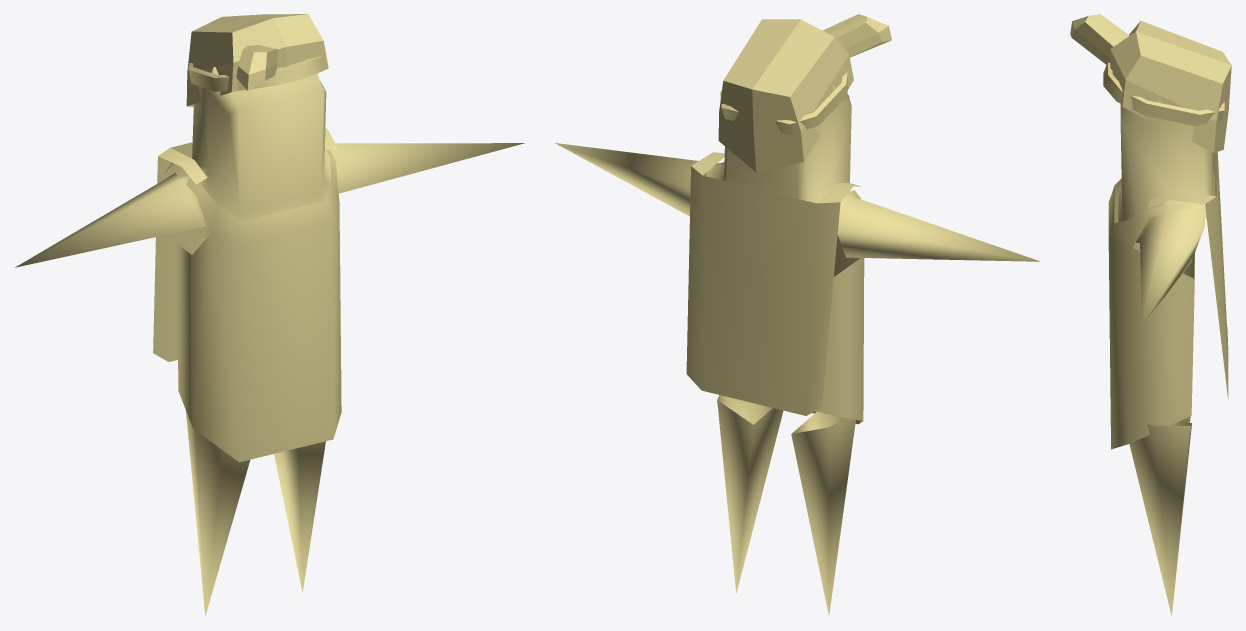
Rendered from Warrior.FBX.
3 views of the same model, side by side, from view 1: azimuth 30°, elevation 25°; view 2: azimuth 150°, elevation 25°; view 3: azimuth 270°, elevation 25° (orthographic). The views are drawn at different scales.
Parts seen in each view (by area): view 1: Warrior; view 2: Warrior; view 3: Warrior.
Part boxes in pixels (box(x1,y1,x2,y2)): Warrior: box(15, 14, 524, 615); Warrior: box(555, 14, 1040, 616); Warrior: box(1070, 14, 1231, 616).
Bounding box in the file's own units: 53.12 × 15.5 × 59.64.
